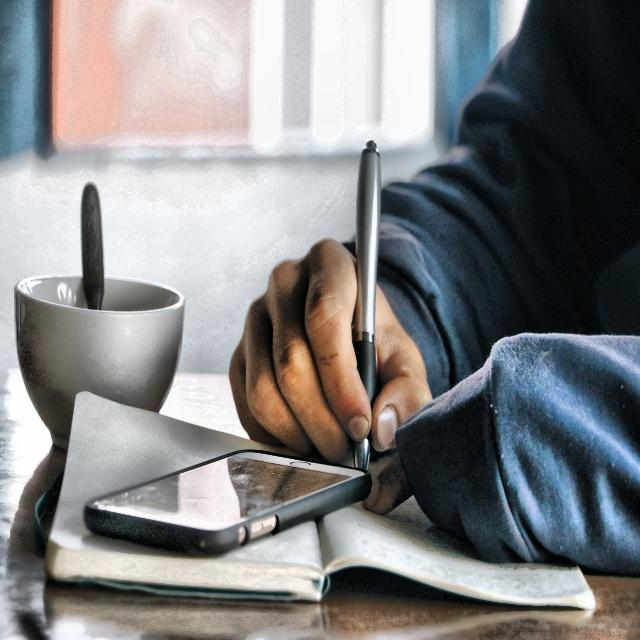Phone: (80, 446, 369, 559)
